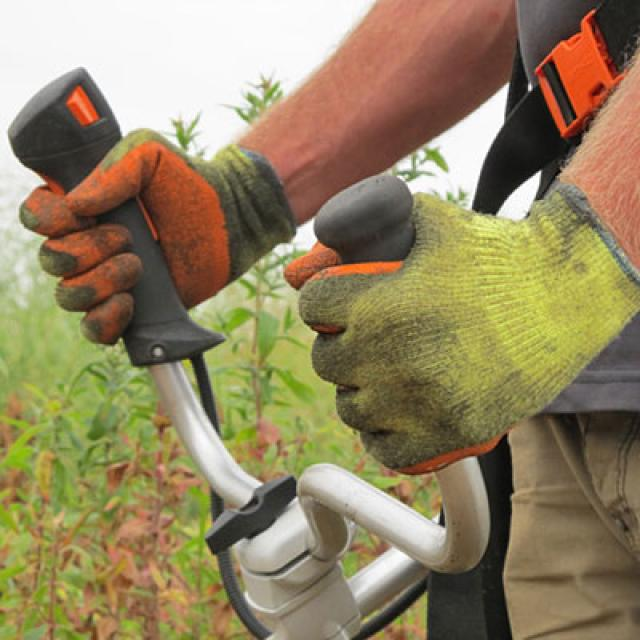gloves: (283, 184, 640, 475), (16, 125, 298, 350)
